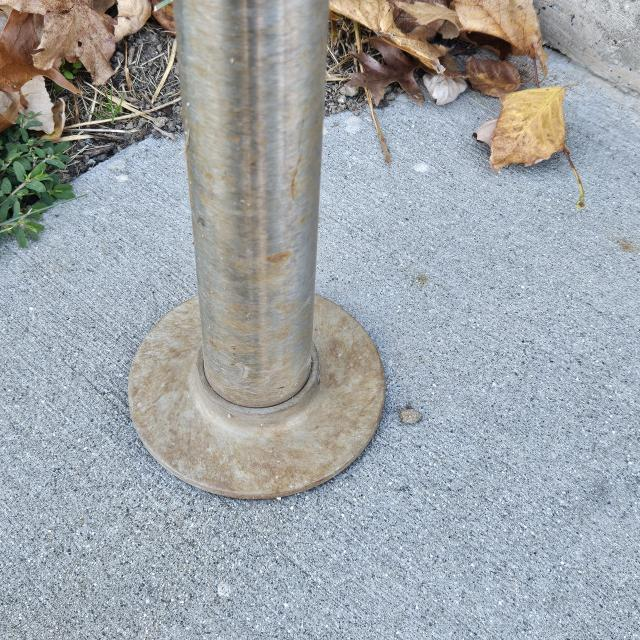Uniform Corrosion: (133, 1, 388, 501)
